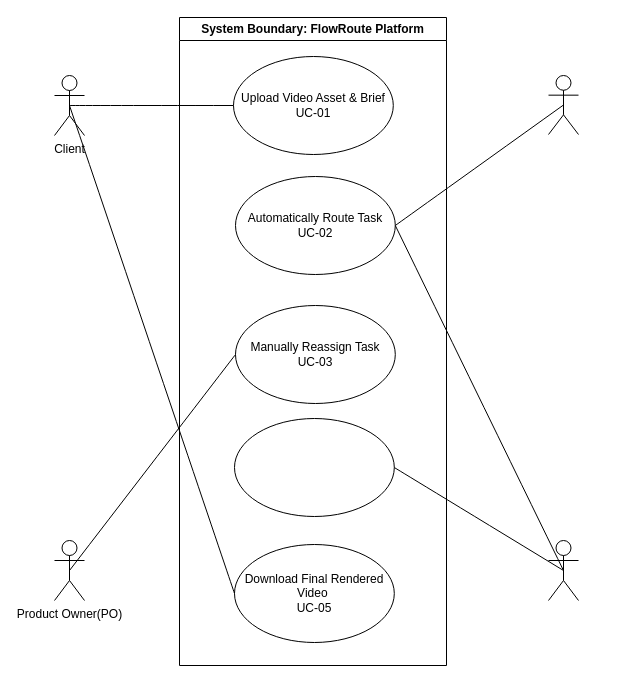
Some shapes in this 643 by 683 pixel diagram are drawn without their labels. The shapes that lost their labels are listed below. From the top down, each one's centre as x and y in pixels, then its label:
the point at 563,104: System Routing Engine
the point at 314,467: Update Video Status UC-04
the point at 563,570: Editing Pod
